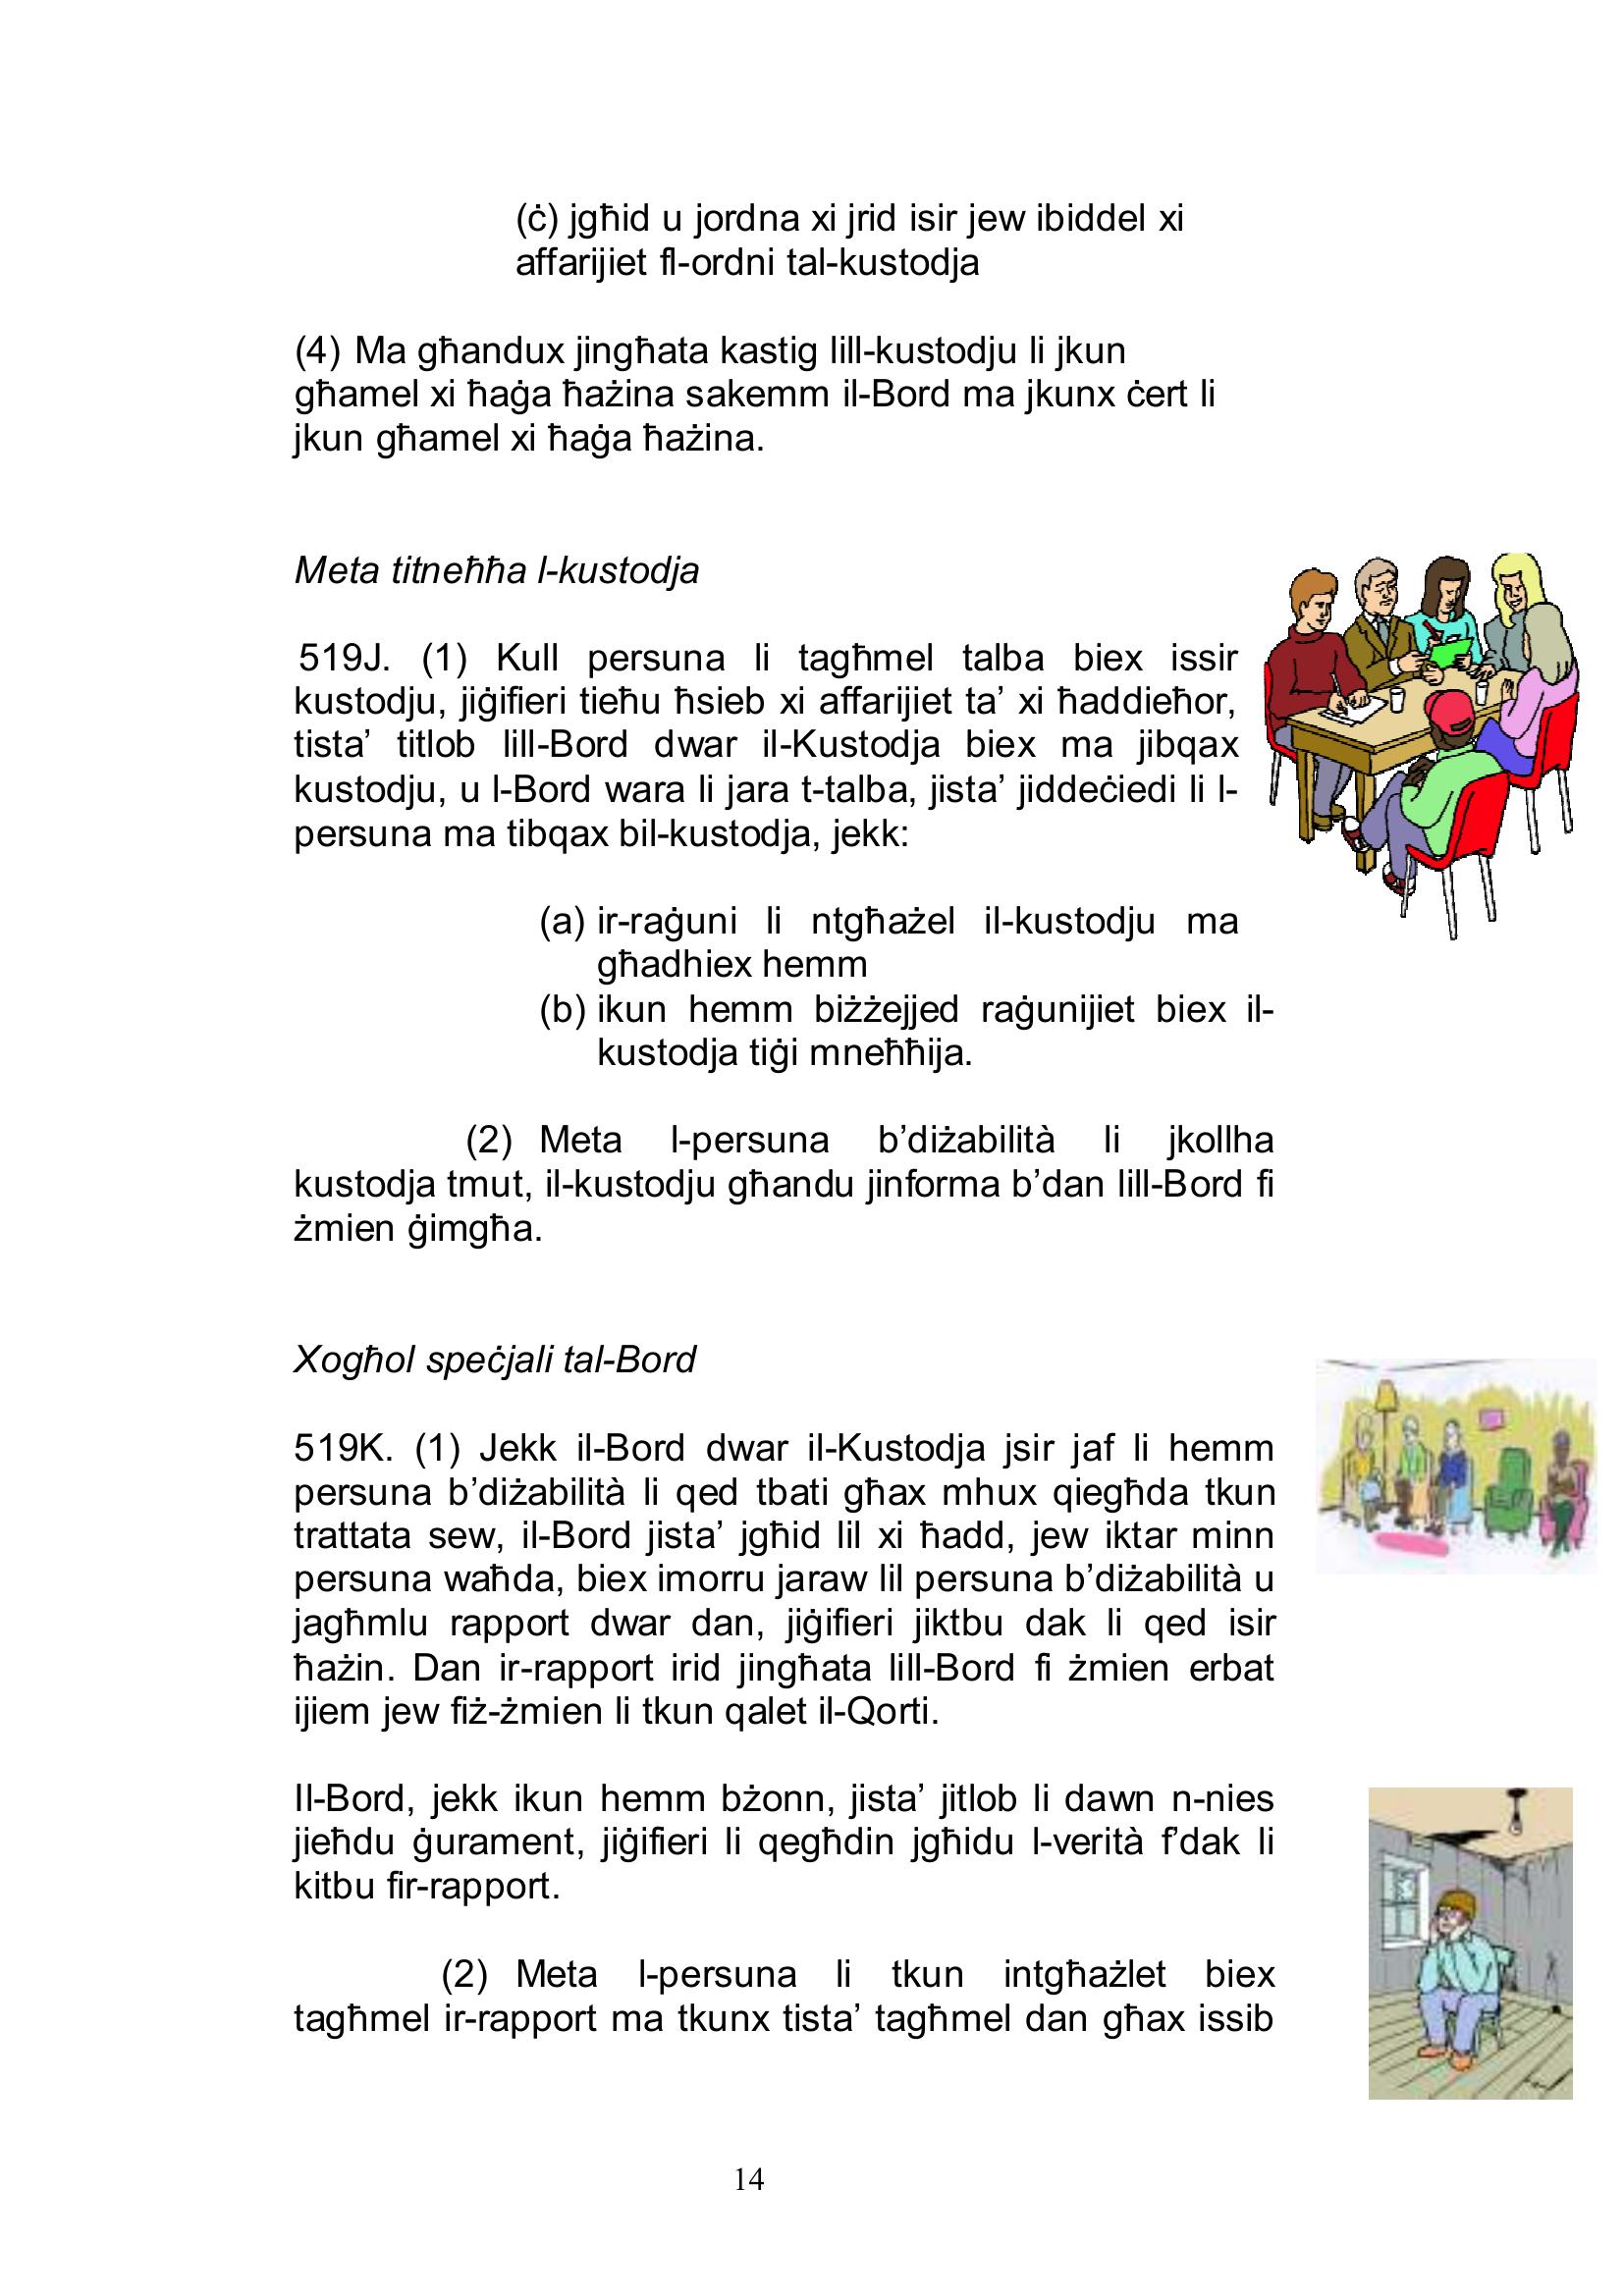text: (253, 137, 1302, 2064)
whiteout: (1255, 538, 1624, 959)
